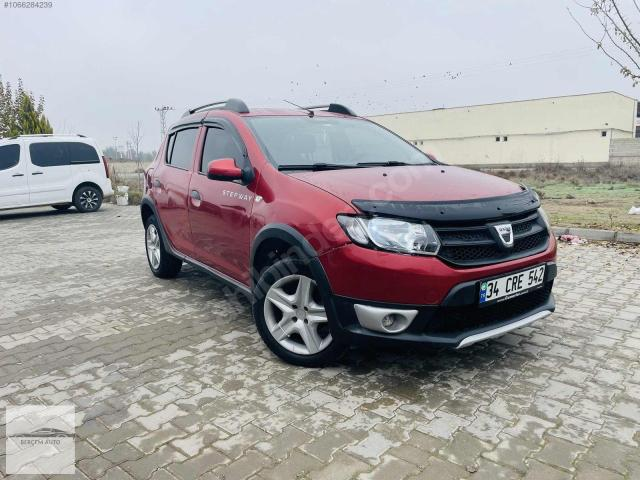plaka: (480, 265, 545, 303)
